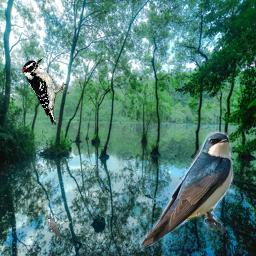Cuckoo: (45, 217, 62, 244)
Swallow: (136, 128, 237, 250)
Woodpecker: (22, 58, 70, 125)
